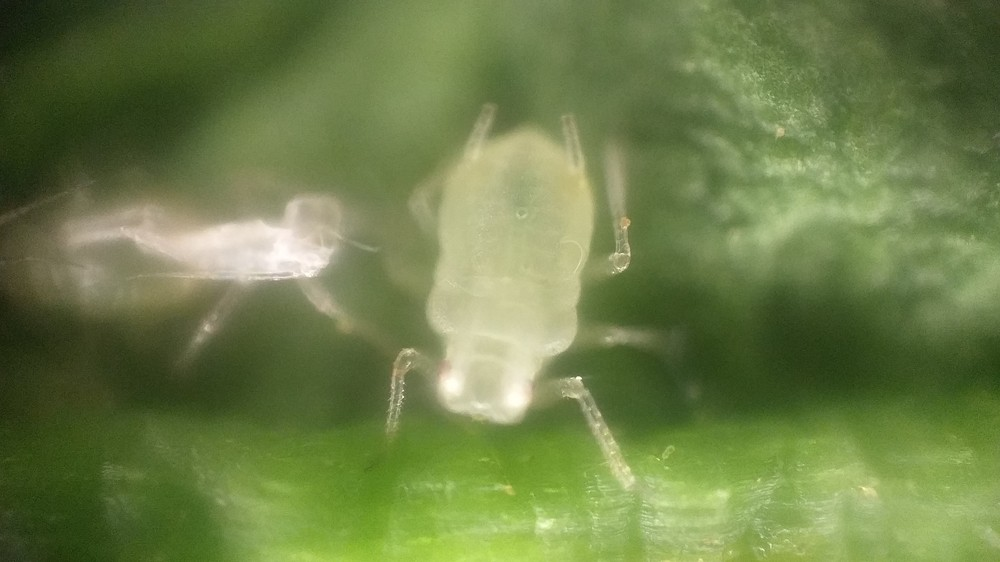Pulgon: (350, 92, 739, 481)
